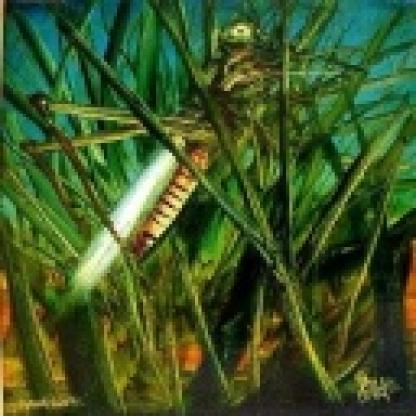grasshopper: (21, 11, 314, 319)
